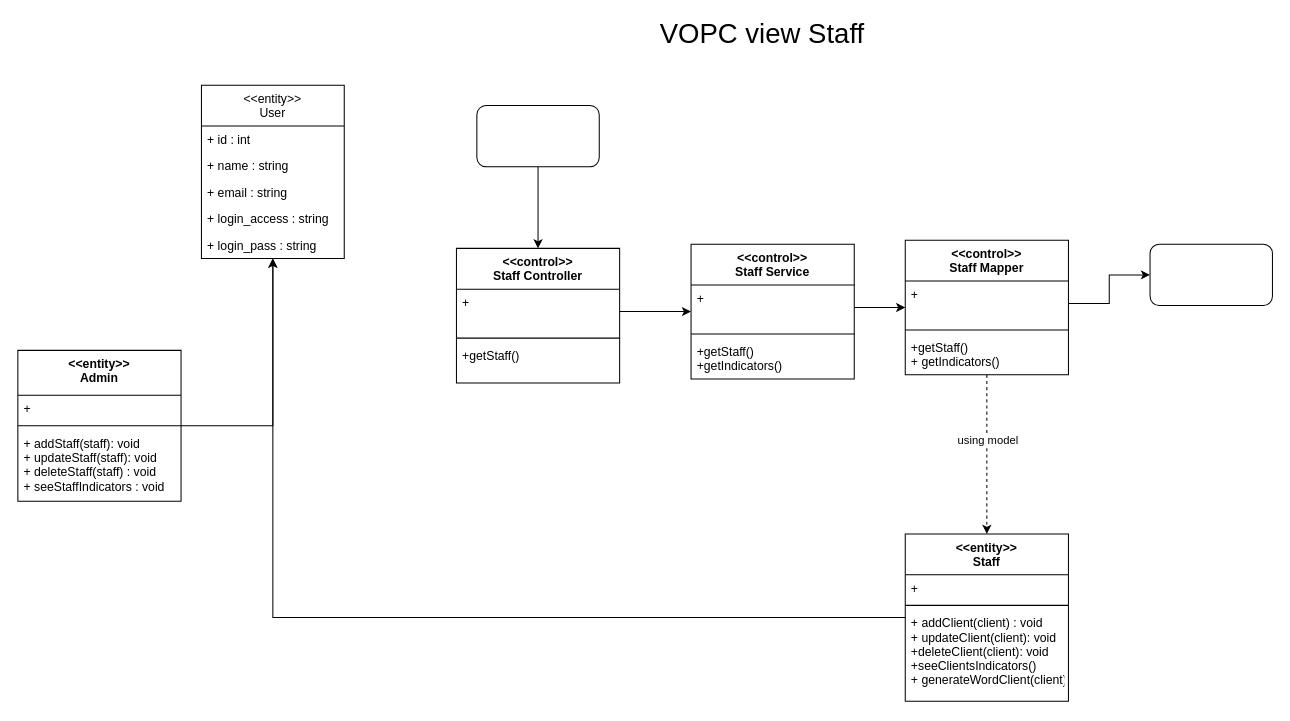
This 1290x721 diagram has some shape labels left out. Each missing label, with the centre of its shape:
<<boundary>> HTML window: (x=537, y=136)
<<boundary>> Portal Database: (x=1210, y=274)
